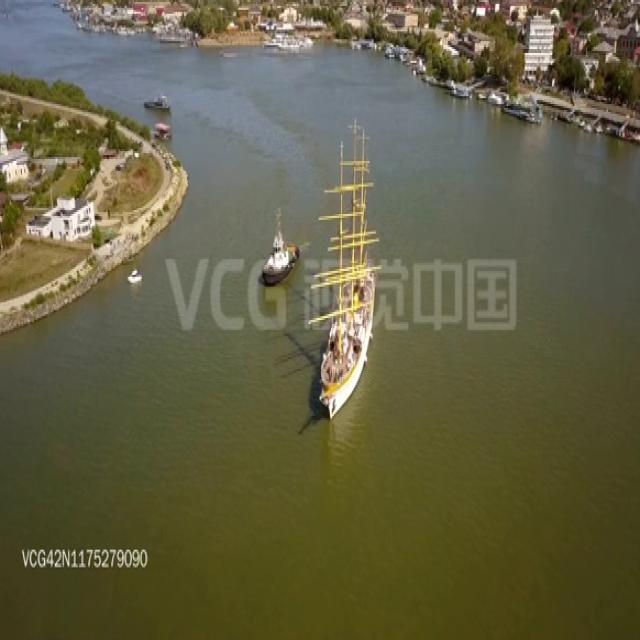houseboat: (262, 205, 299, 288), (143, 85, 169, 111), (151, 120, 172, 142), (126, 266, 144, 287)
sailboat: (317, 125, 382, 418)
